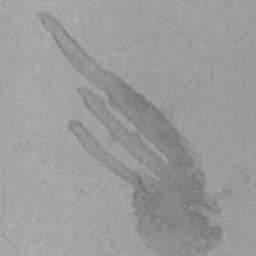Water spot: (36, 5, 239, 255)
